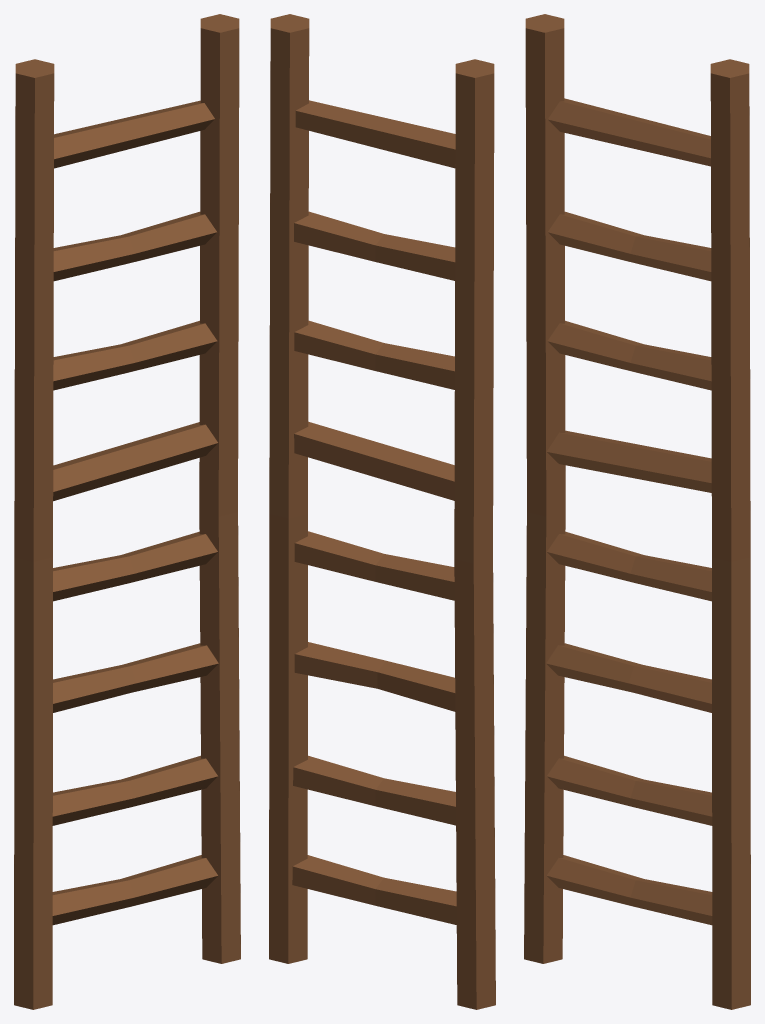
File: fantasy-ladder-small-wood.glb
3 renders of one model, left to right at view 1: azimuth 30°, elevation 25°; view 2: azimuth 150°, elevation 25°; view 3: azimuth 330°, elevation 25°, orthographic.
Parts seen in each view (by area): view 1: ladder-small-wood; view 2: ladder-small-wood; view 3: ladder-small-wood.
Part boxes in pixels (x1=…): ladder-small-wood: x1=14, y1=14, x2=240, y2=1009; ladder-small-wood: x1=269, y1=14, x2=495, y2=1009; ladder-small-wood: x1=524, y1=14, x2=750, y2=1009.
Size of the model in its own units: 0.8325 by 3.27 by 0.131.
